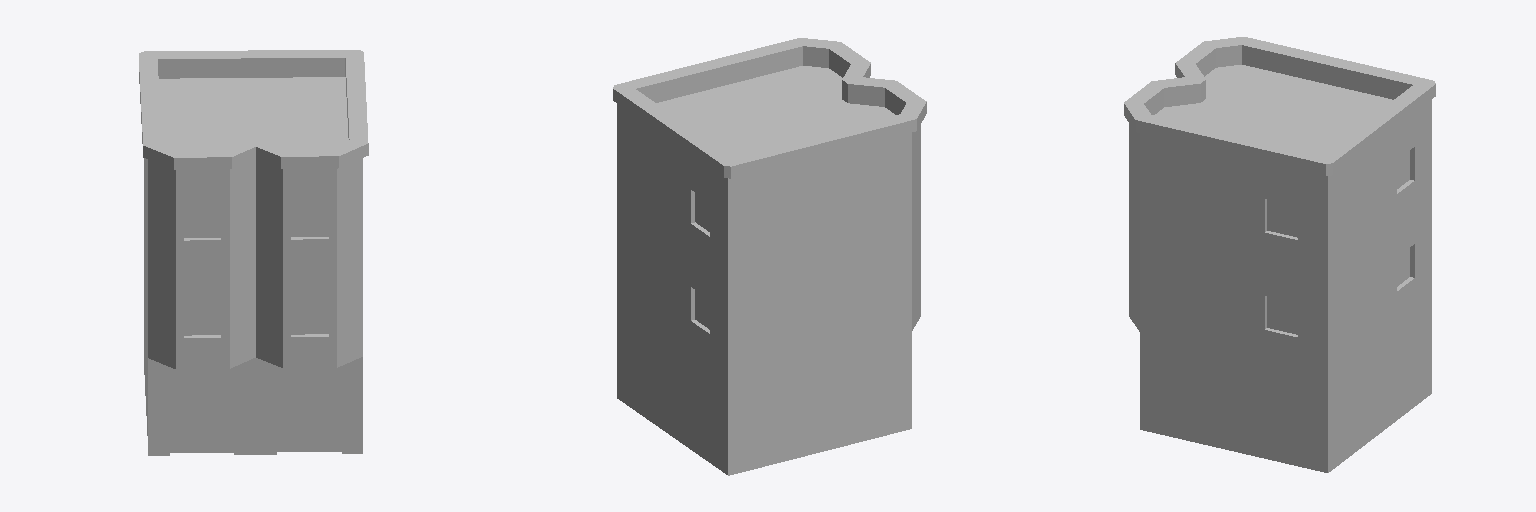
The model's file is variant_21.obj.
3 renders of one model, left to right at view 1: azimuth 30°, elevation 25°; view 2: azimuth 150°, elevation 25°; view 3: azimuth 270°, elevation 25°, orthographic.
Parts seen in each view (by area): view 1: Building; view 2: Building; view 3: Building.
Part boxes in pixels (x1,y1,x2,y2): Building: (139,50,368,455); Building: (613,38,926,475); Building: (1124,37,1435,472).
Bounding box in the file's own units: 1.13 × 1.28 × 1.16.